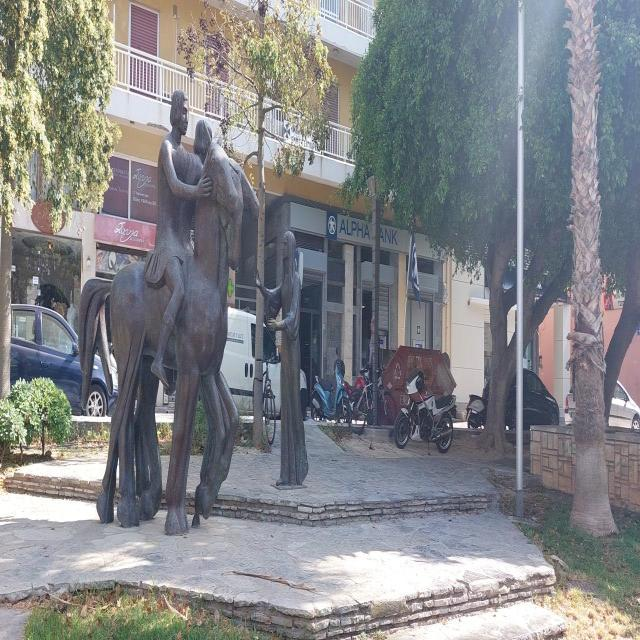Aretousa: (79, 92, 310, 538)
